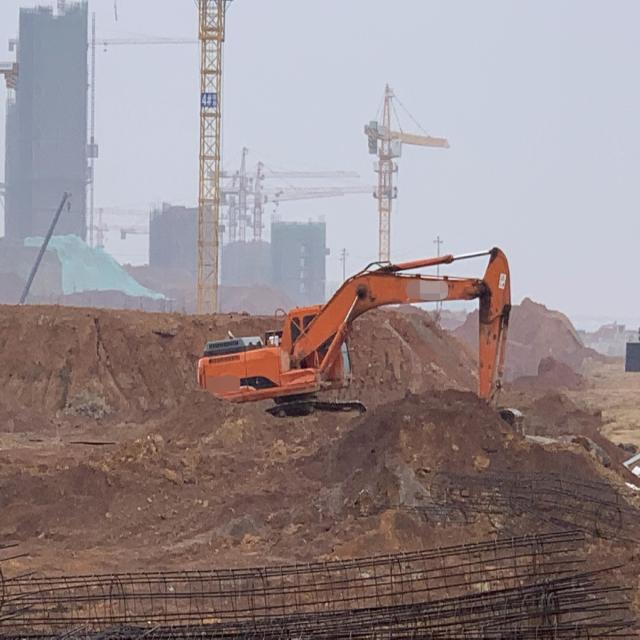crane: (364, 82, 450, 261), (218, 148, 359, 241), (193, 0, 233, 313), (245, 163, 378, 240), (17, 191, 71, 305)
excavator: (197, 245, 524, 437)
